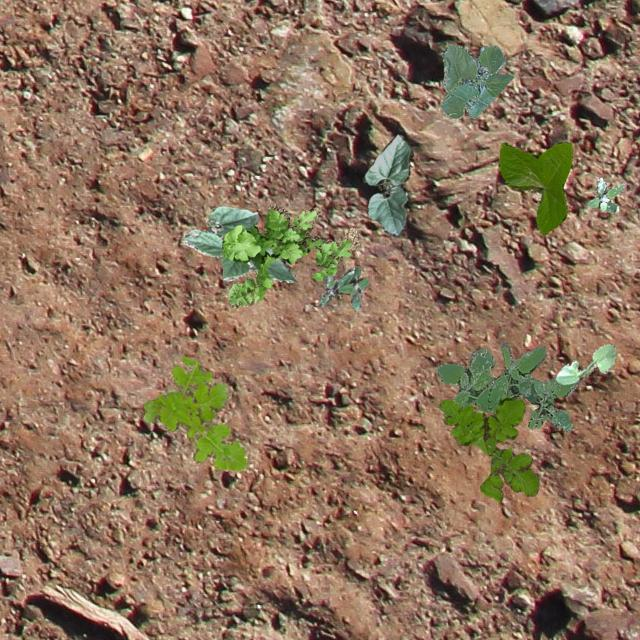crop: (182, 204, 294, 282), (498, 140, 570, 234), (440, 44, 512, 118), (362, 134, 412, 236), (554, 344, 614, 384)
weed: (220, 202, 358, 306), (436, 340, 578, 430), (142, 354, 248, 470), (437, 396, 538, 501), (318, 266, 368, 310), (588, 176, 624, 212)
